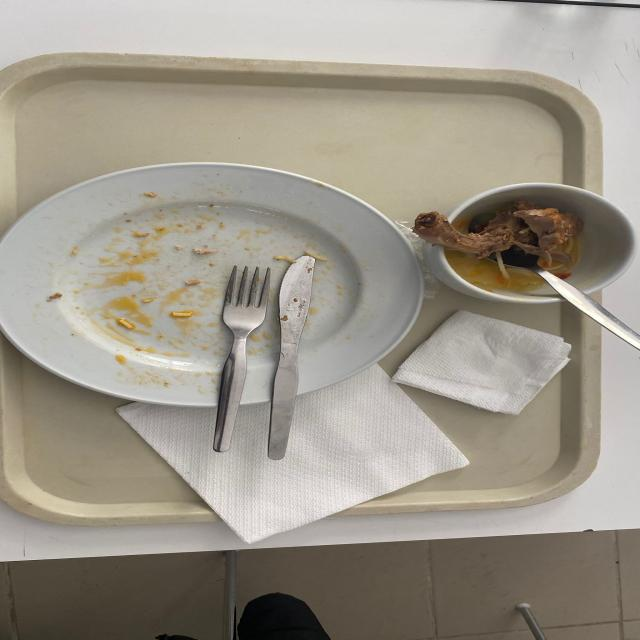board: (0, 53, 602, 525)
bowl: (414, 183, 636, 301)
fork: (213, 266, 270, 452)
garbage: (118, 311, 571, 543)
knife: (268, 255, 315, 460)
plate: (0, 163, 424, 407)
spoon: (531, 266, 639, 350)
